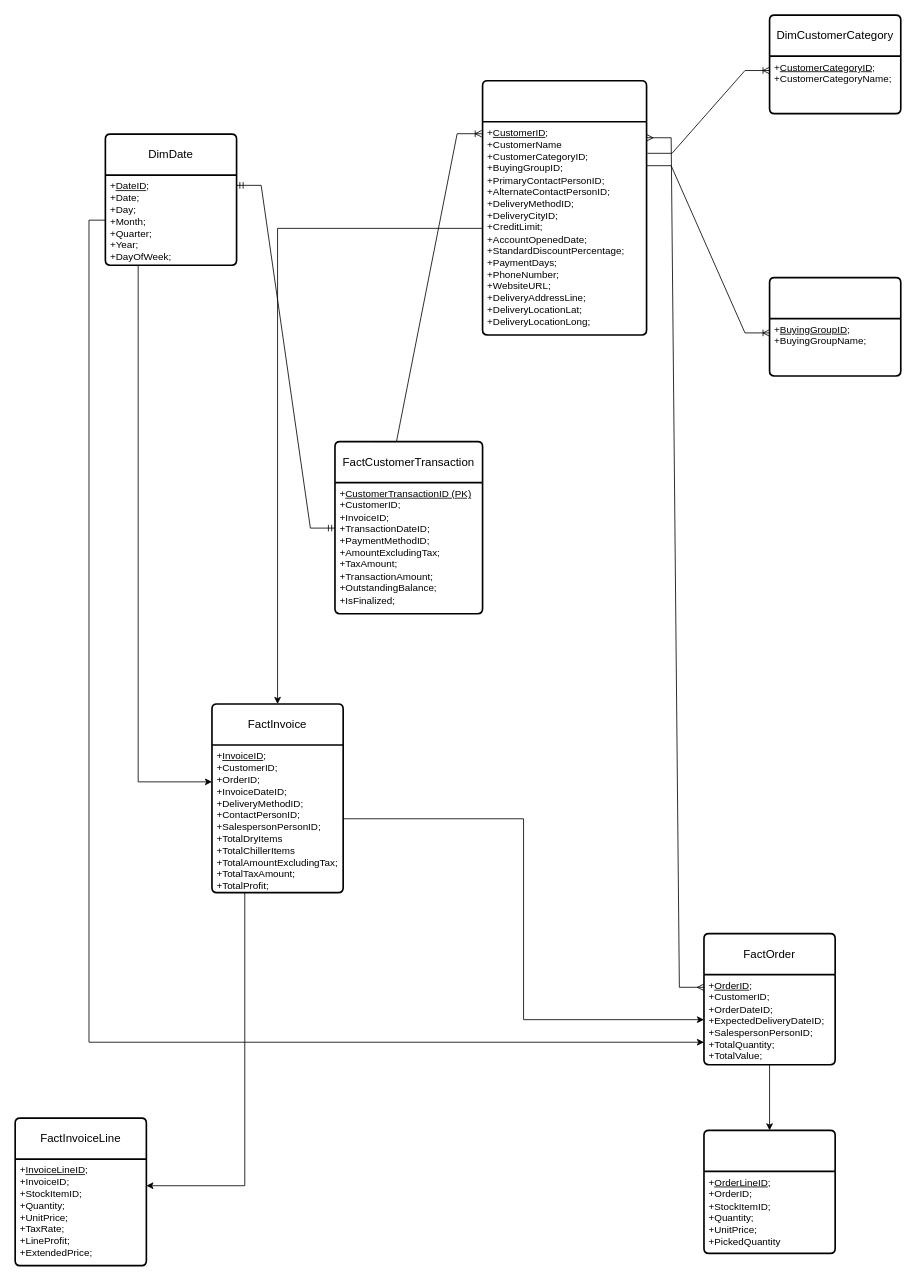
The diagram is 915 pixels wide and 1280 high, and some of its shapes have lost their labels. Here are the shapes that lost their labels. From the top down, the box of each, then its label:
(481, 80, 647, 335): DimCustomer
(768, 276, 901, 376): DimBuyingGroup
(703, 1129, 836, 1254): FactOrderLine
